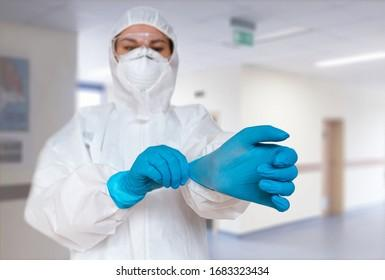gloves: (188, 124, 299, 212), (108, 144, 189, 210)
